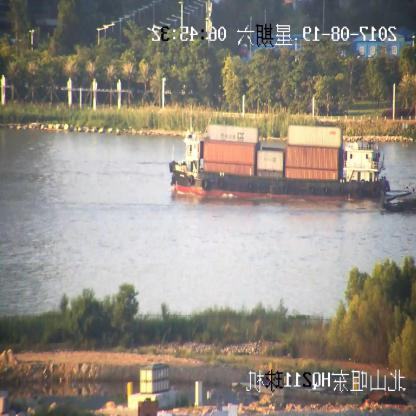Container Ship: (171, 122, 391, 202)
